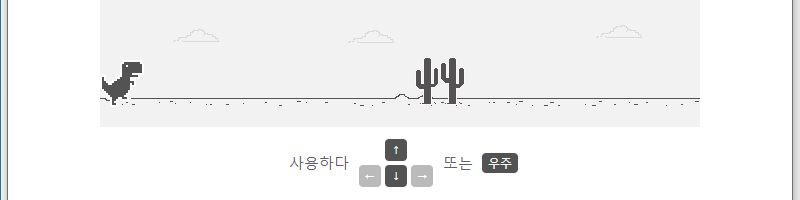dinosaur: (100, 58, 144, 105)
obstacle: (413, 54, 473, 108)
